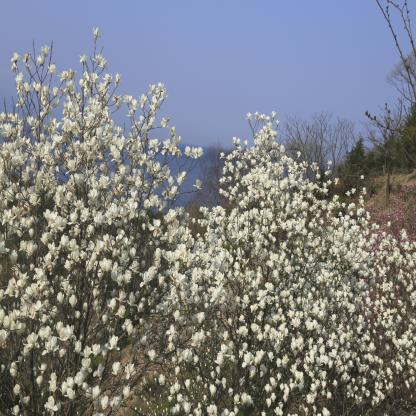Mokuren: (0, 25, 202, 416), (202, 106, 416, 416)
